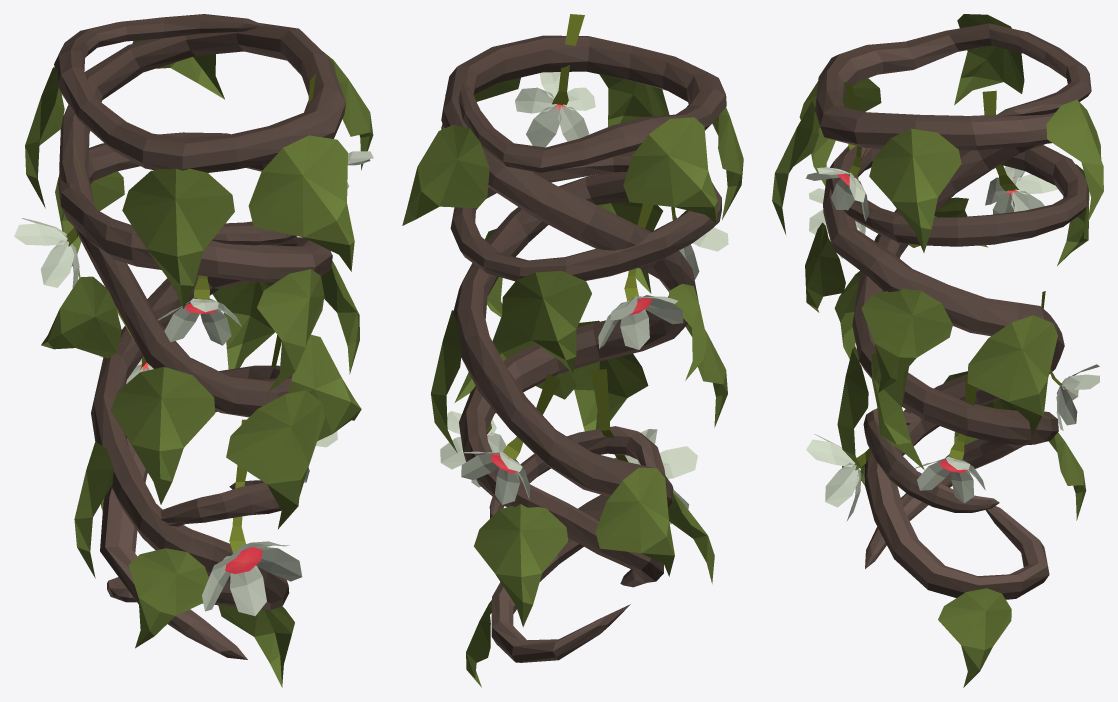
The model's file is flowerLegGuard.glb.
3 views of the same model, side by side, from view 1: azimuth 30°, elevation 25°; view 2: azimuth 150°, elevation 25°; view 3: azimuth 270°, elevation 25° (orthographic). The views are drawn at different scales.
Visible parts, largest first — view 1: flowerLegGuard; view 2: flowerLegGuard; view 3: flowerLegGuard.
Boxes of the visible parts, box(x1,y1,x2,y2) form: flowerLegGuard: box(14, 14, 373, 687); flowerLegGuard: box(402, 14, 743, 687); flowerLegGuard: box(772, 14, 1103, 687).
Bounding box in the file's own units: 0.2287 × 0.4608 × 0.2347.
